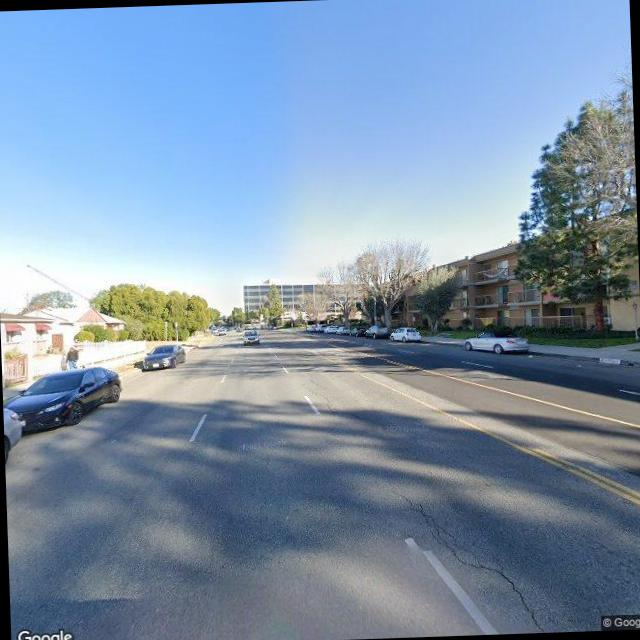pothole: (387, 481, 552, 634)
